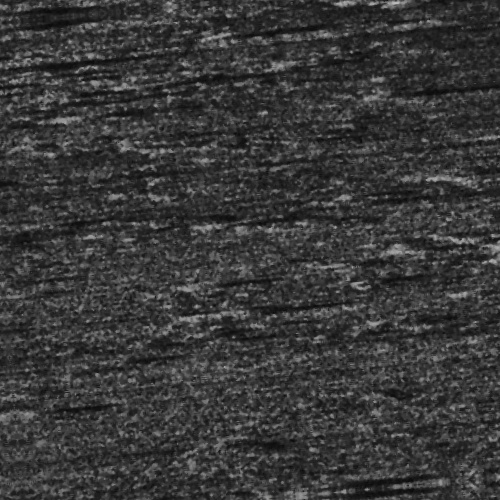object: (182, 26, 307, 39), (100, 69, 193, 78), (45, 93, 118, 102), (380, 101, 433, 112), (0, 0, 48, 5), (0, 40, 26, 49)
shadow: (0, 40, 183, 49), (147, 69, 311, 78), (245, 26, 332, 39), (407, 101, 500, 112), (81, 93, 158, 102), (17, 0, 120, 5), (0, 153, 26, 160)
